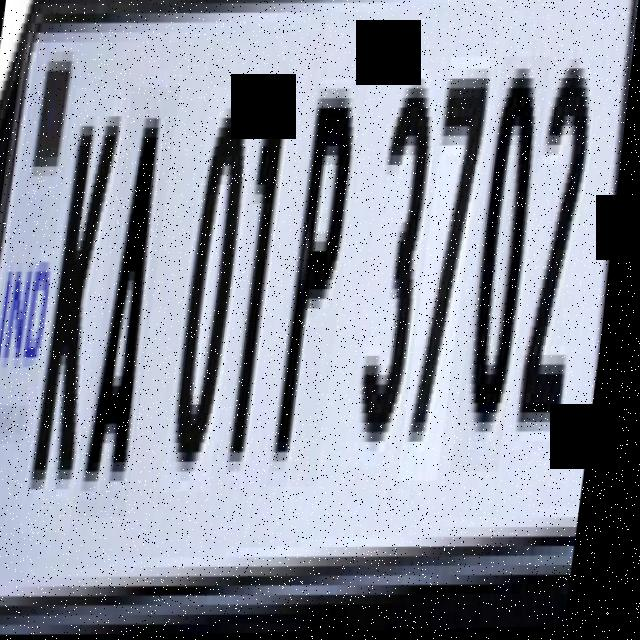0: (461, 57, 553, 474), (171, 86, 263, 493)
1: (225, 81, 300, 493)
3: (354, 58, 448, 470)
7: (408, 58, 492, 484)
A: (88, 86, 182, 518)
K: (30, 87, 128, 535)
P: (277, 83, 369, 488)
